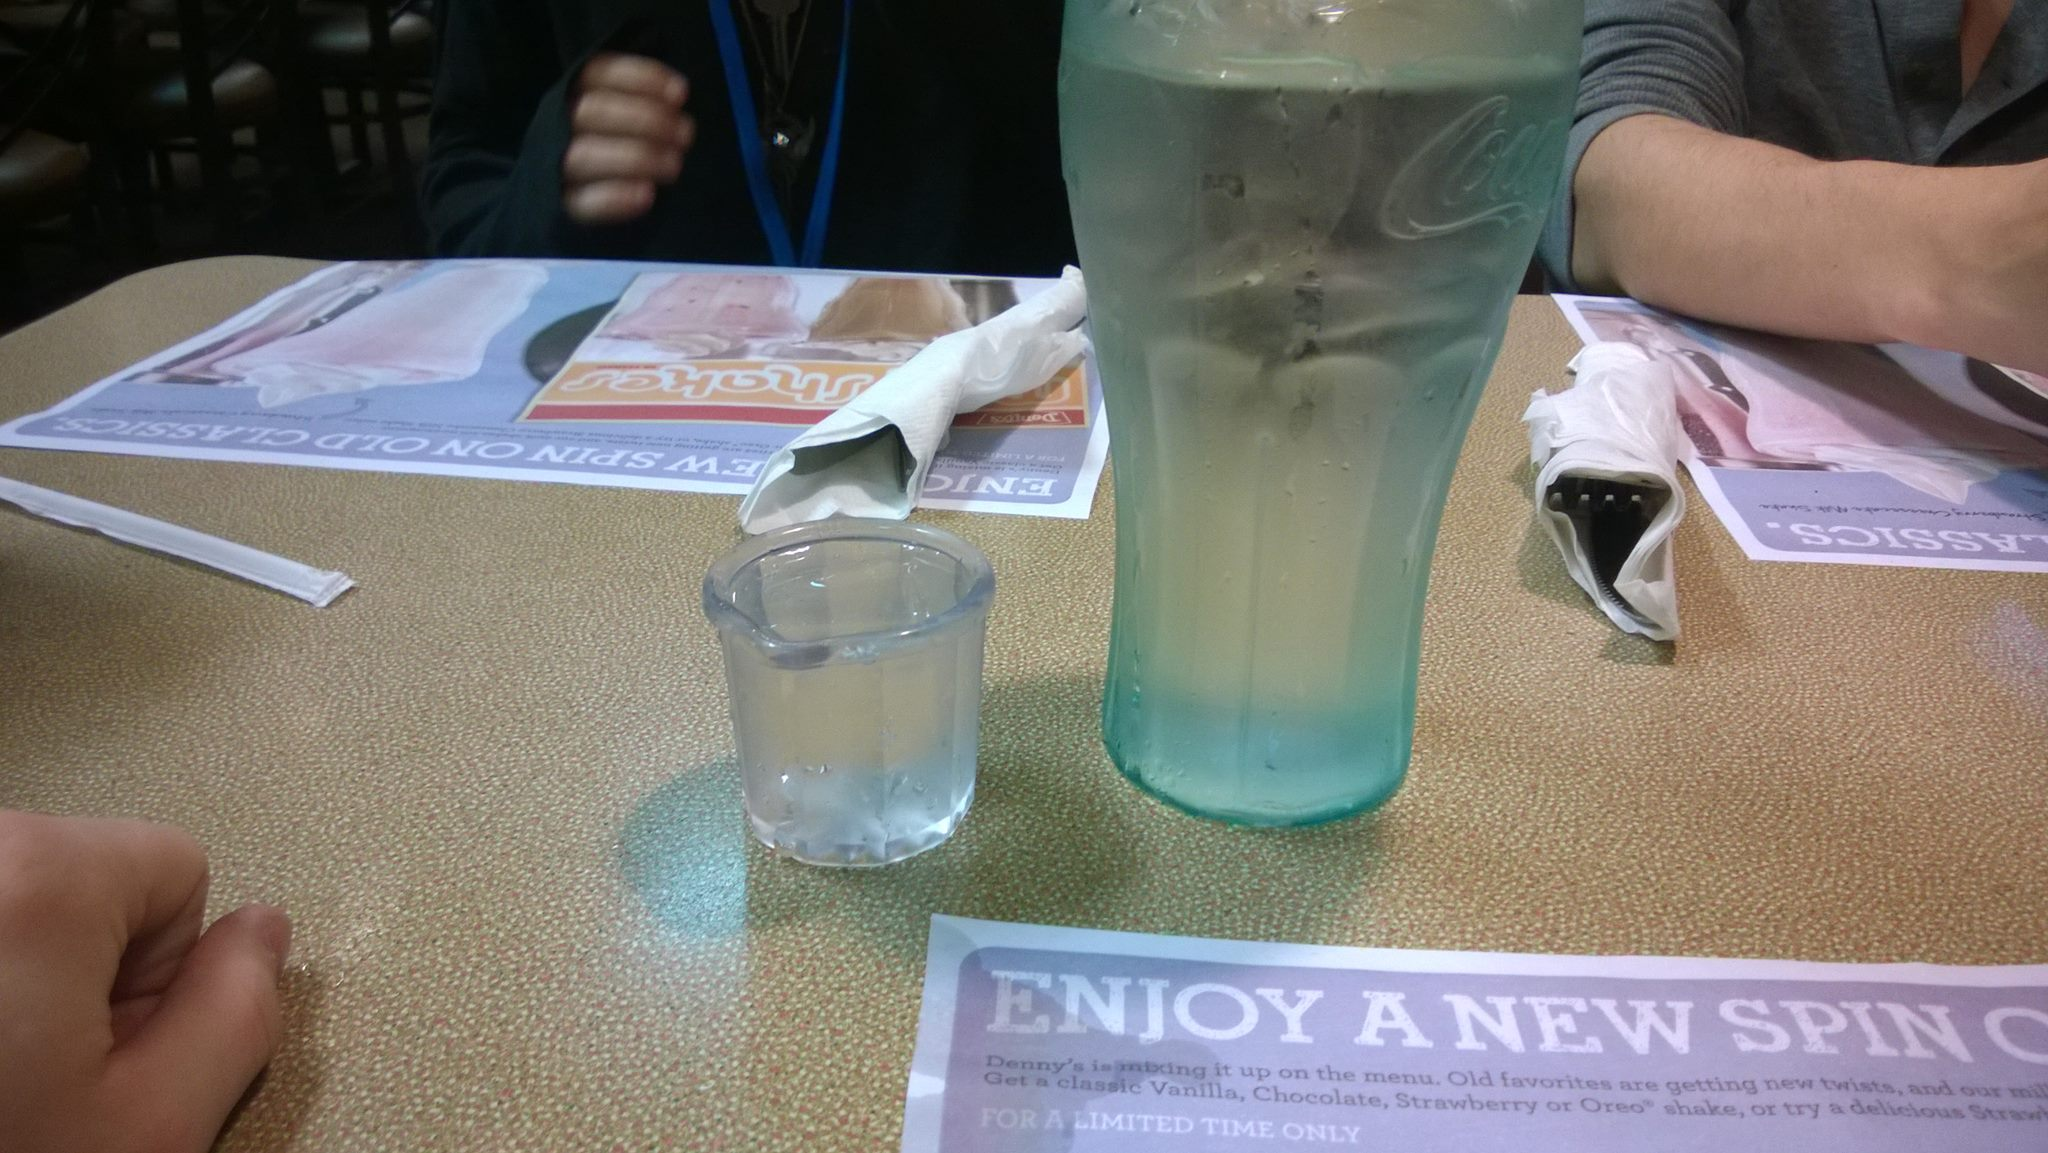glass of water: (1055, 22, 1578, 837)
